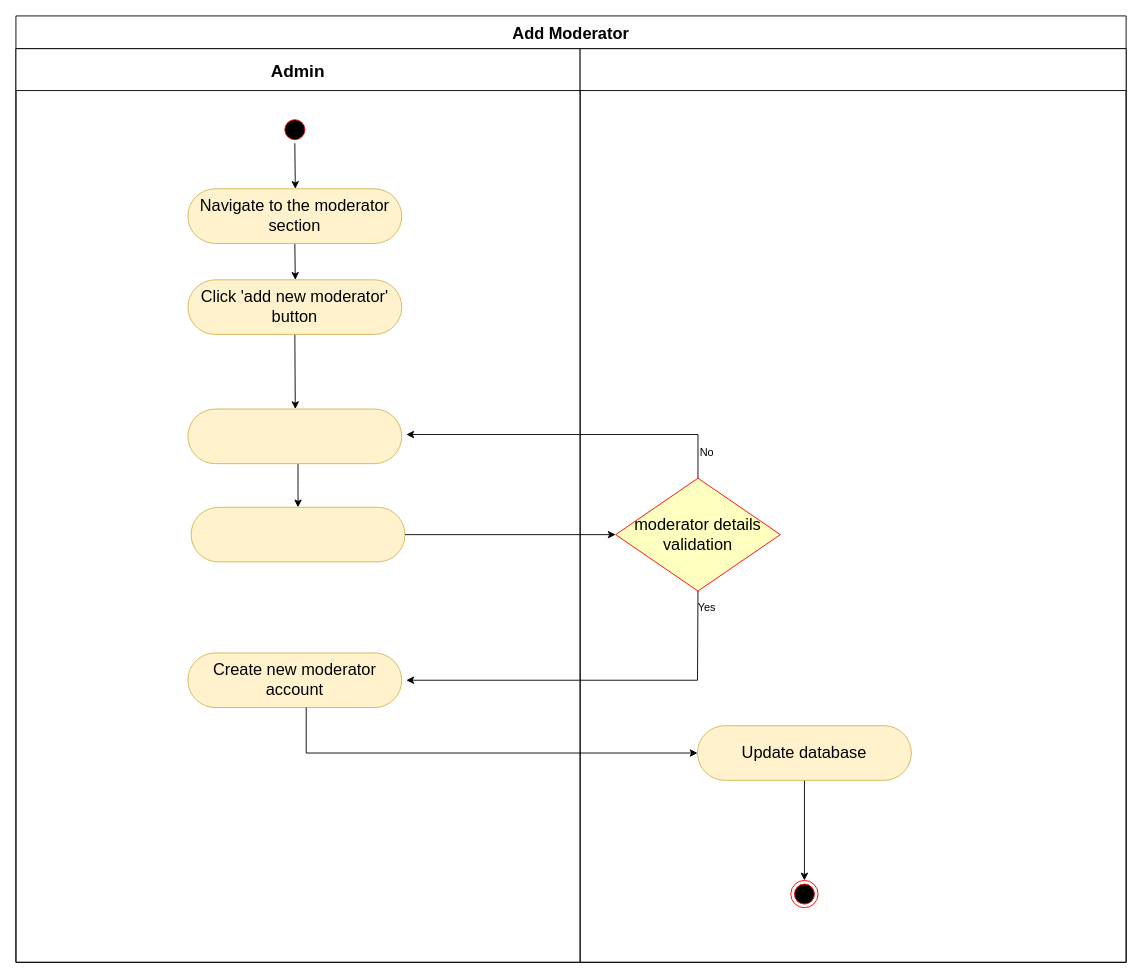
The diagram is 1142 pixels wide and 978 high, and some of its shapes have lost their labels. The shapes that lost their labels are listed below. From the top down, each one's box as (x1, y1, x2, y2) in pixels, then its label:
(187, 408, 402, 464): Enter the moderator details
(579, 48, 1126, 962): System
(190, 506, 405, 562): Press 'Enter' button
